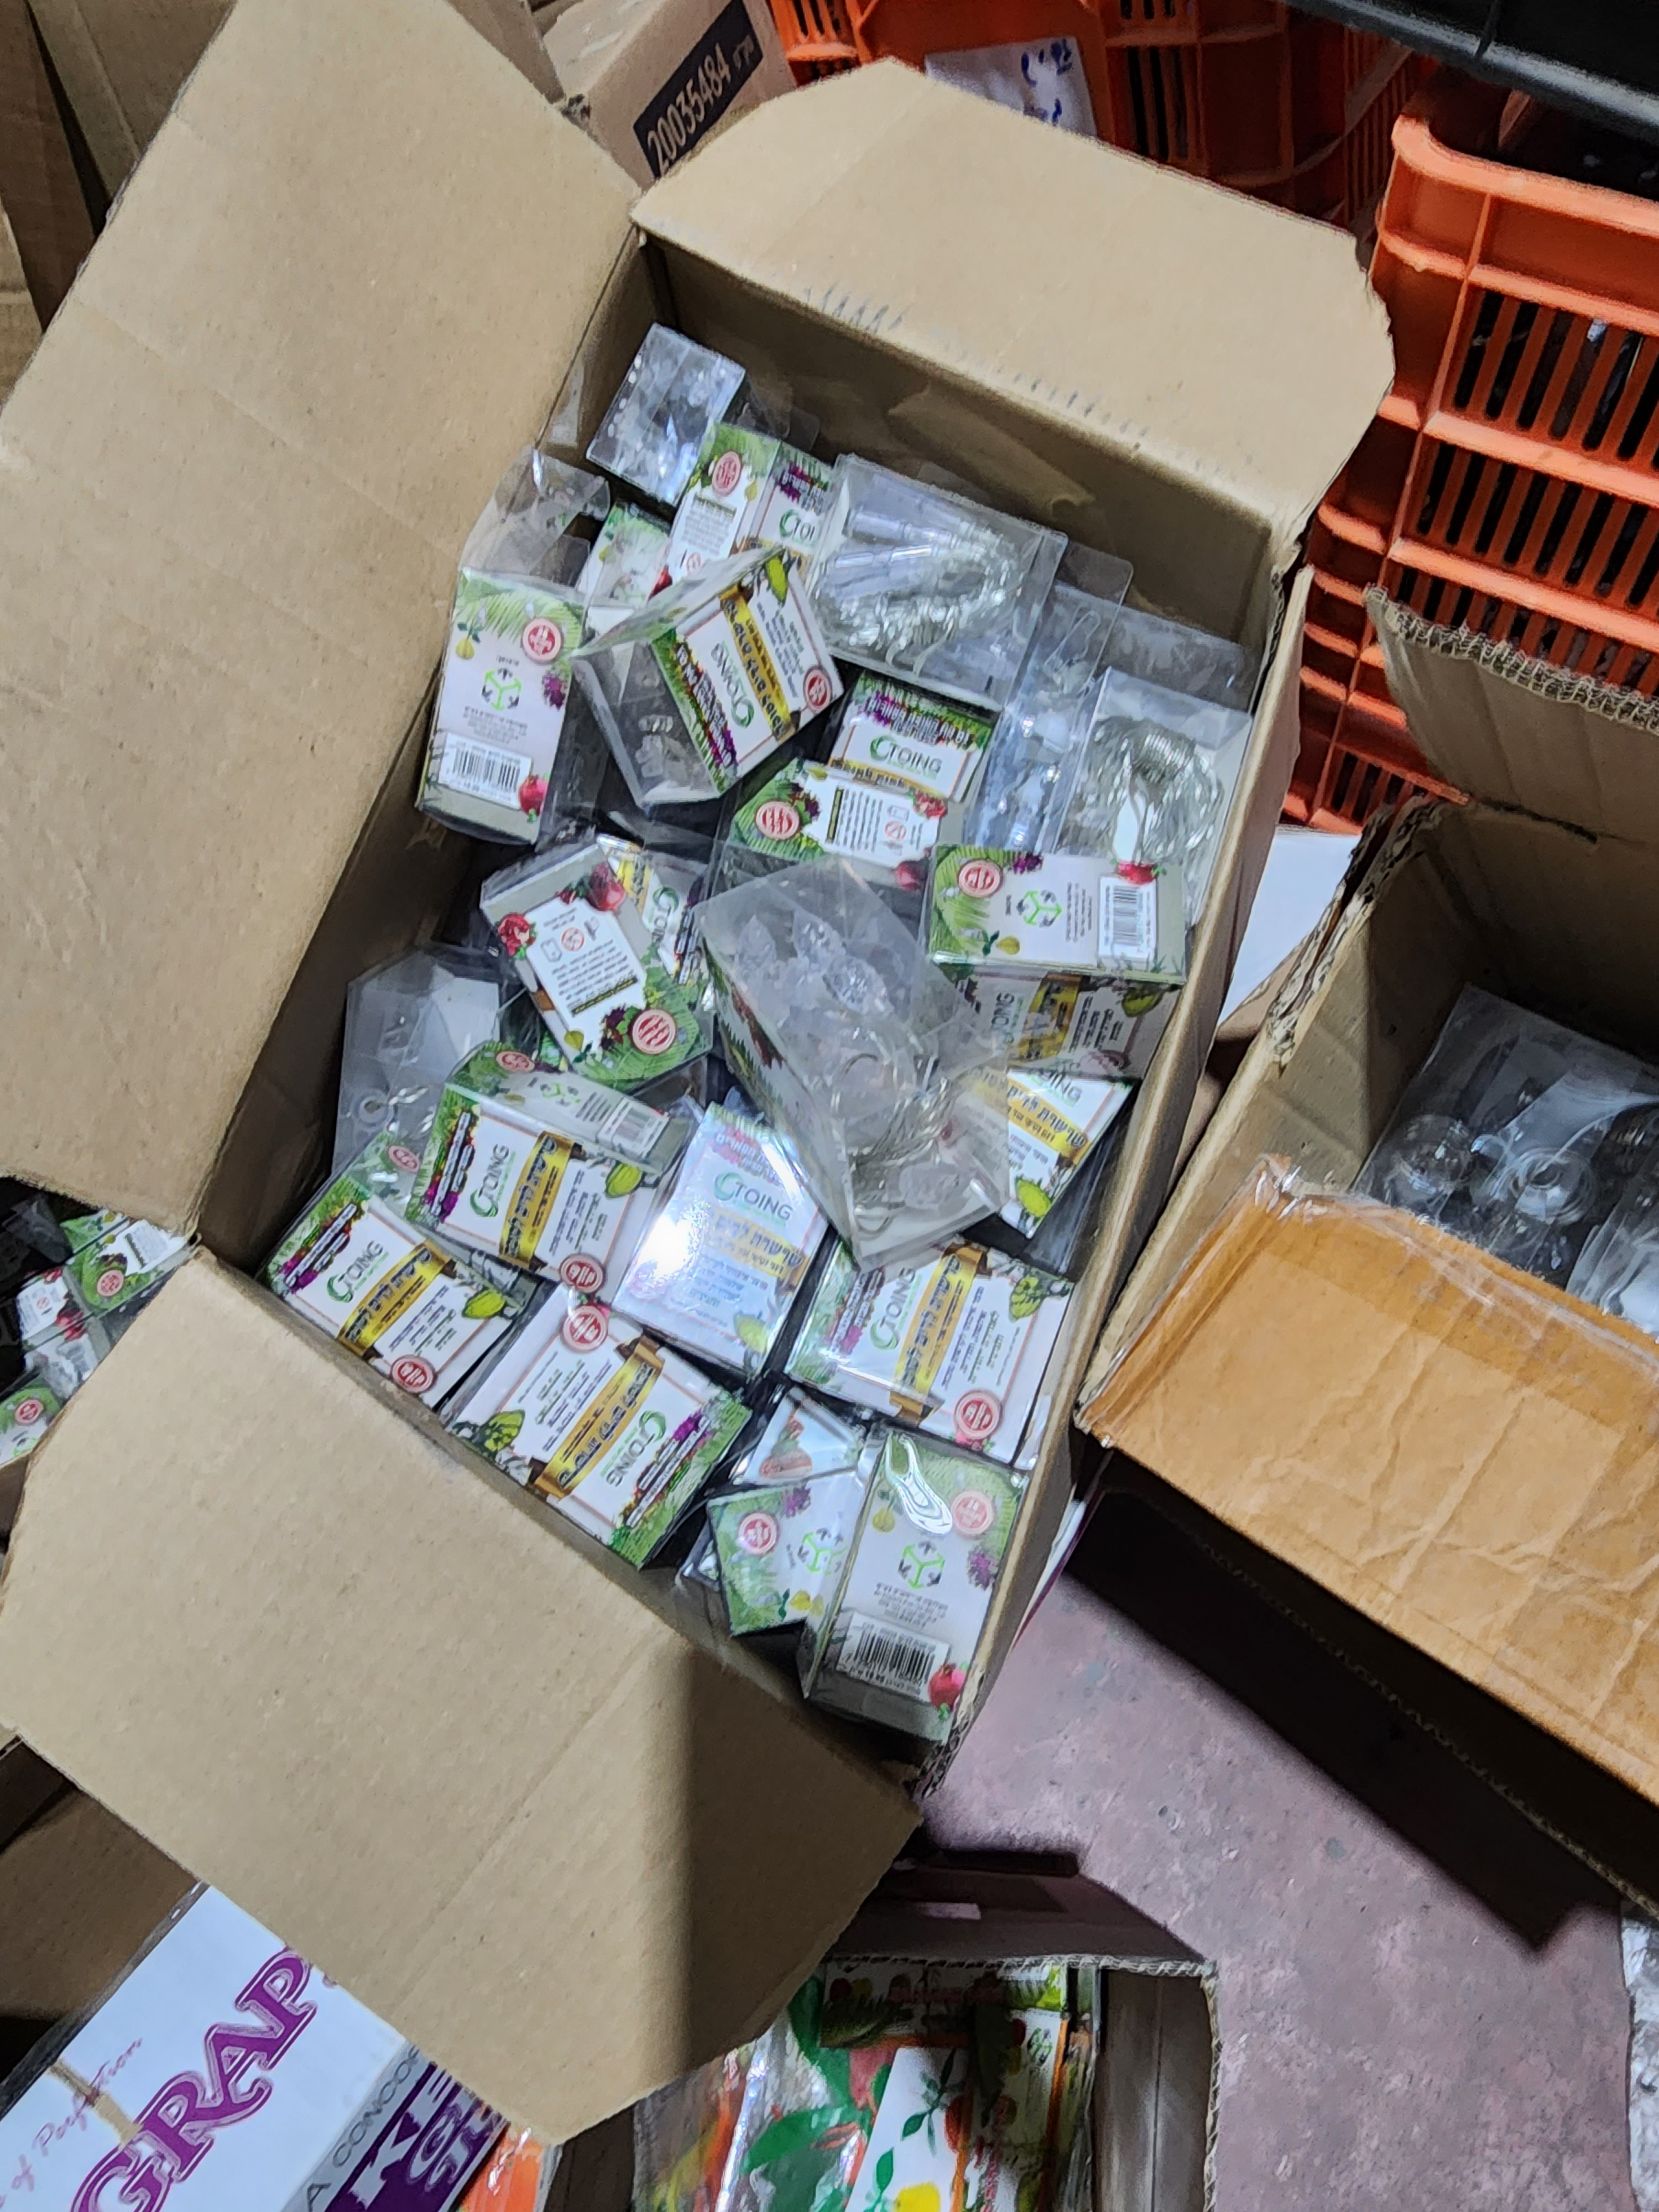box: (157, 134, 1338, 1831)
